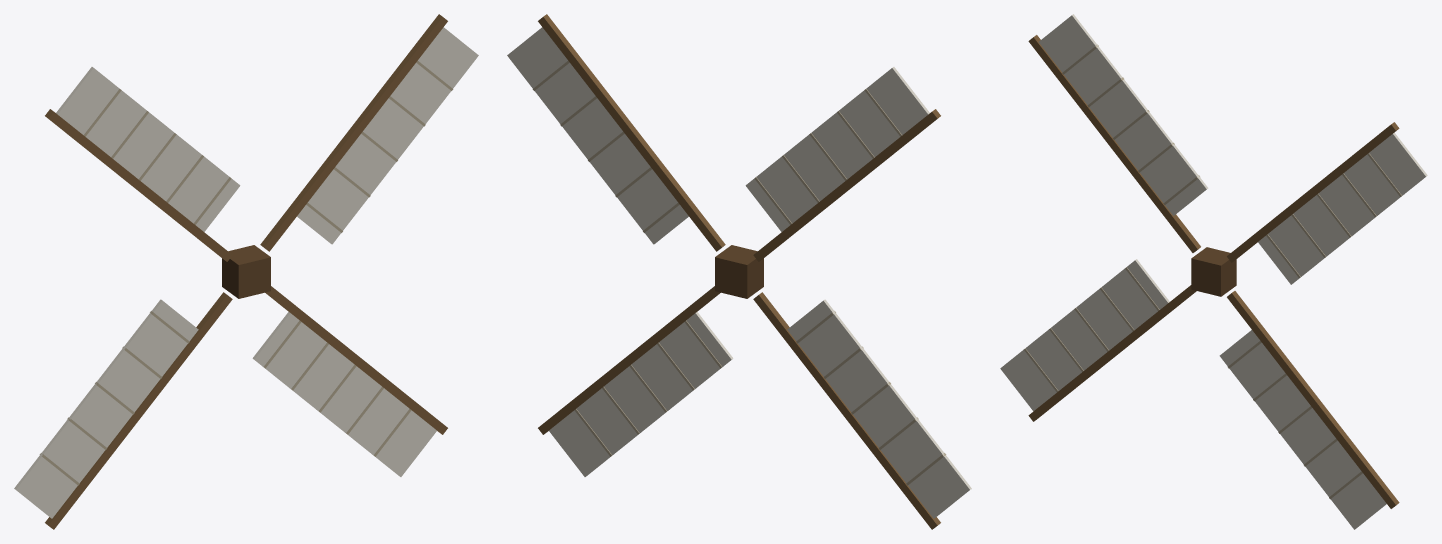
The model's file is WindmillBlades.glb.
3 views of the same model, side by side, from view 1: azimuth 30°, elevation 25°; view 2: azimuth 150°, elevation 25°; view 3: azimuth 330°, elevation 25° (orthographic). The views are drawn at different scales.
Parts seen in each view (by area): view 1: WindmillBlades; view 2: WindmillBlades; view 3: WindmillBlades.
Part boxes in pixels (x1=…): WindmillBlades: x1=14, y1=14, x2=478, y2=529; WindmillBlades: x1=507, y1=14, x2=971, y2=529; WindmillBlades: x1=1000, y1=14, x2=1427, y2=529.
Bounding box in the file's own units: 14.28 × 14.28 × 0.9.
